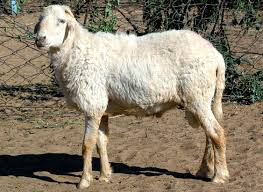koyun: (34, 5, 229, 190)
